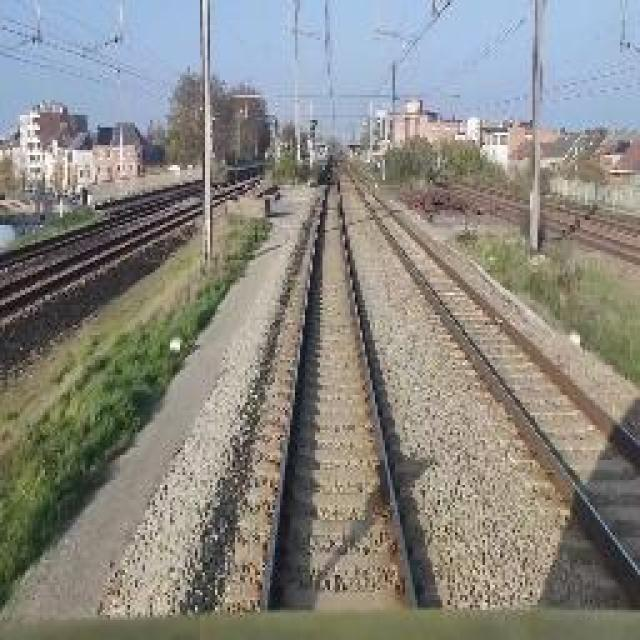rail: (348, 153, 636, 612), (213, 157, 447, 612)
